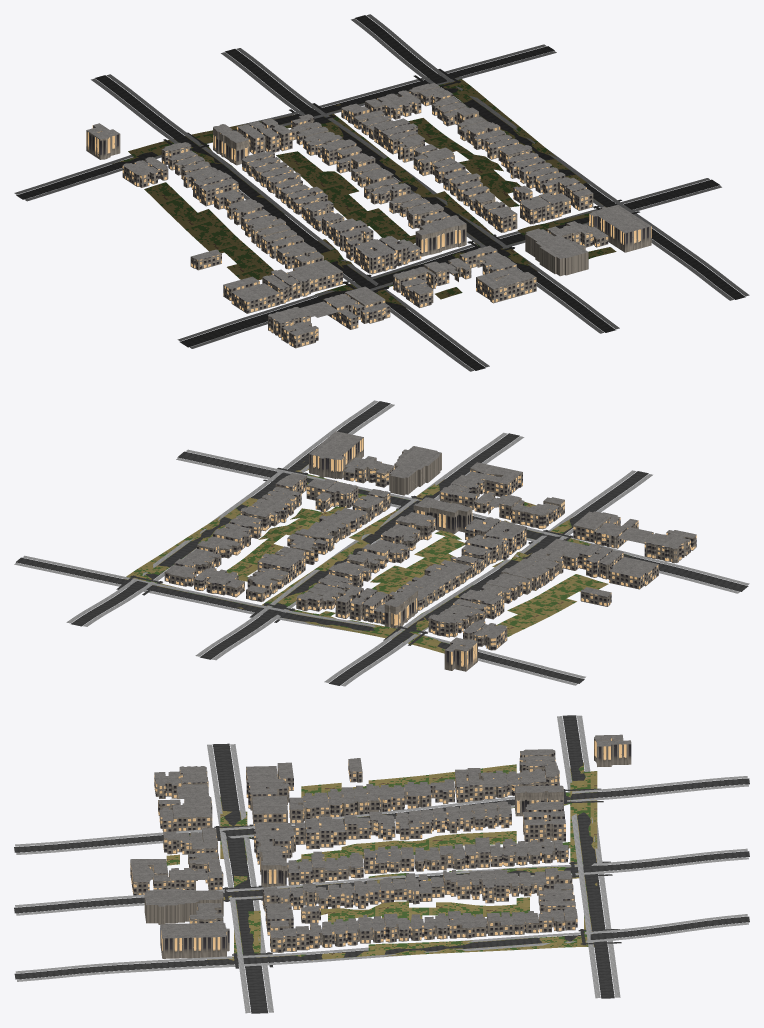
The model's file is tile_4_-30.gltf.
3 renders of one model, top to bottom at view 1: azimuth 30°, elevation 25°; view 2: azimuth 150°, elevation 25°; view 3: azimuth 270°, elevation 25°, orthographic. The views are drawn at different scales.
Visible parts, largest first — view 1: Buildings_col, Roads, Terrain_col, Sidewalks; view 2: Buildings_col, Roads, Terrain_col, Sidewalks; view 3: Buildings_col, Roads, Sidewalks, Terrain_col.
Part boxes in pixels (left/top/right/bottom): Buildings_col: left=86, top=83, right=651, bottom=348; Roads: left=16, top=15, right=745, bottom=370; Terrain_col: left=113, top=77, right=616, bottom=308; Sidewalks: left=14, top=14, right=749, bottom=371; Buildings_col: left=164, top=431, right=696, bottom=671; Roads: left=16, top=401, right=748, bottom=685; Terrain_col: left=124, top=461, right=629, bottom=653; Sidewalks: left=14, top=400, right=749, bottom=686; Buildings_col: left=130, top=734, right=631, bottom=958; Roads: left=14, top=715, right=749, bottom=1013; Sidewalks: left=15, top=715, right=748, bottom=1013; Terrain_col: left=166, top=762, right=597, bottom=962.
Bounding box in the file's own units: 401 × 38.8 × 437.
Materials: 5 (5 with a texture image).
